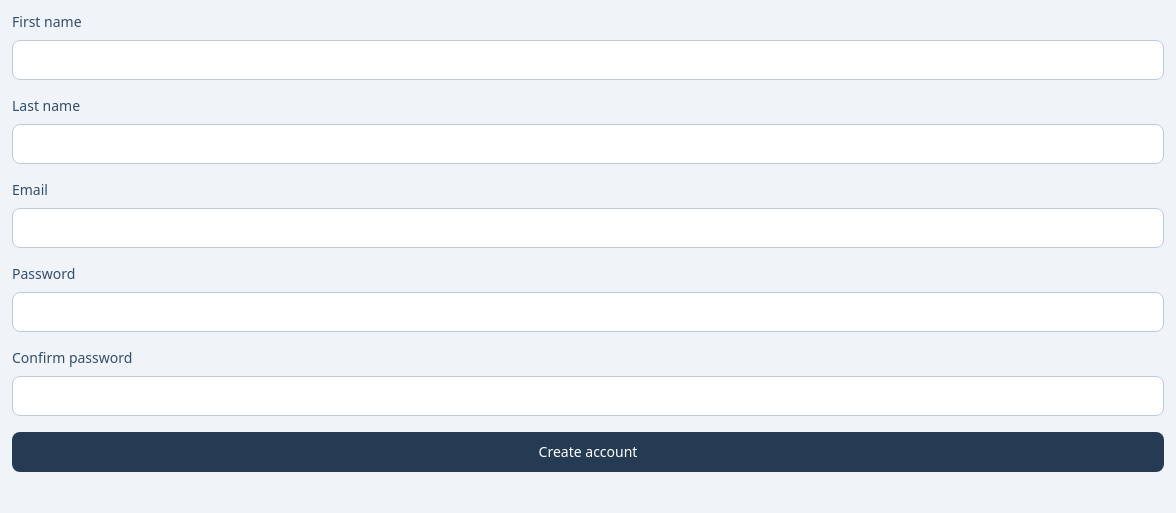
it: RegisterForm › shows field errors when registration fails validation
The width and height of the screenshot is (1176, 513).
Type "Sam" into the field labelled "First name" at (588, 60), box [12, 40, 1164, 80]
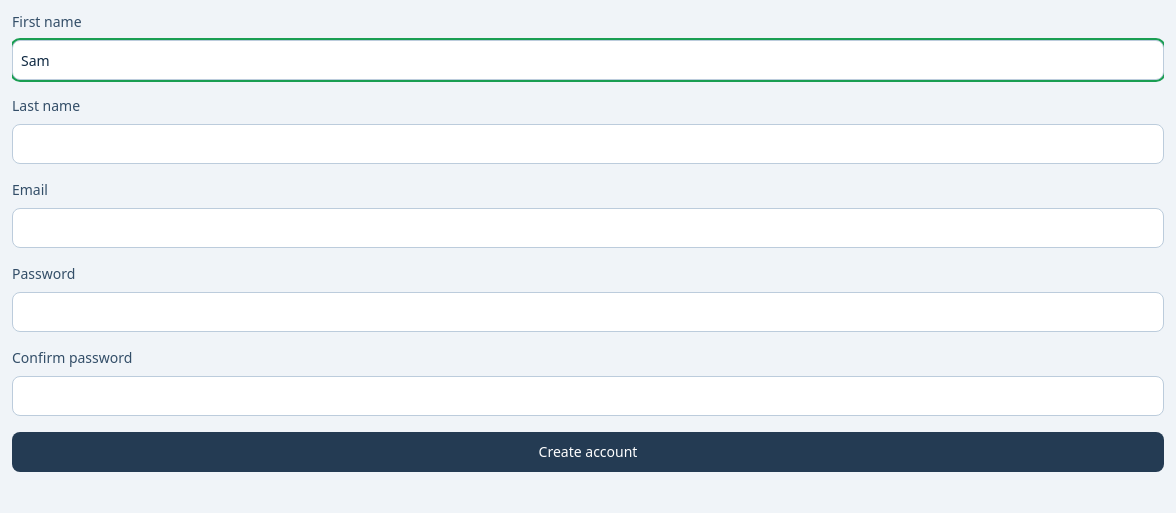
Type "Taylor" into the field labelled "Last name" at (588, 144), box [12, 124, 1164, 164]
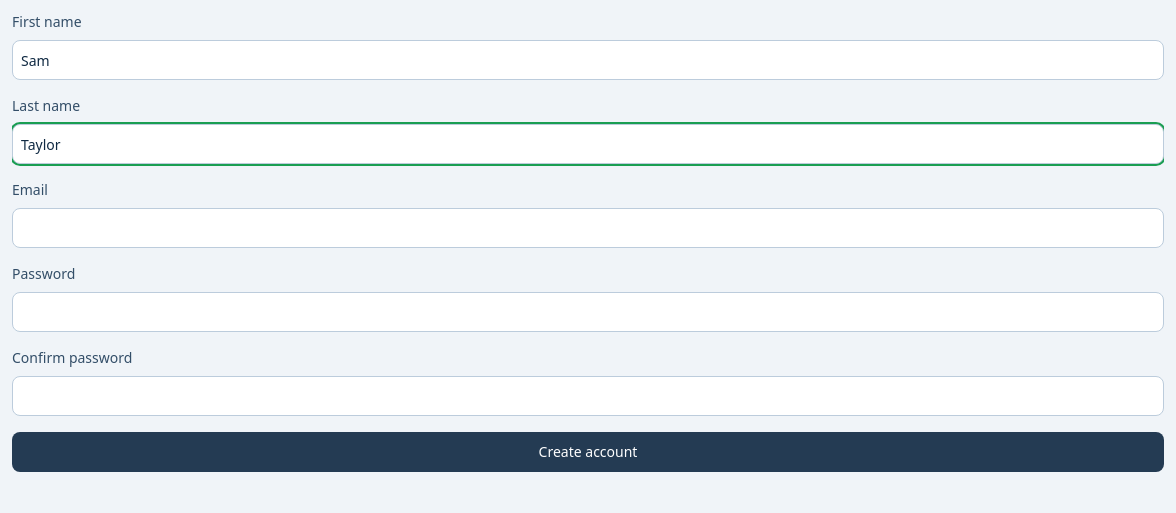
Type "sam.taylor@email.com" into the field labelled "Email" at (588, 228), box [12, 208, 1164, 248]
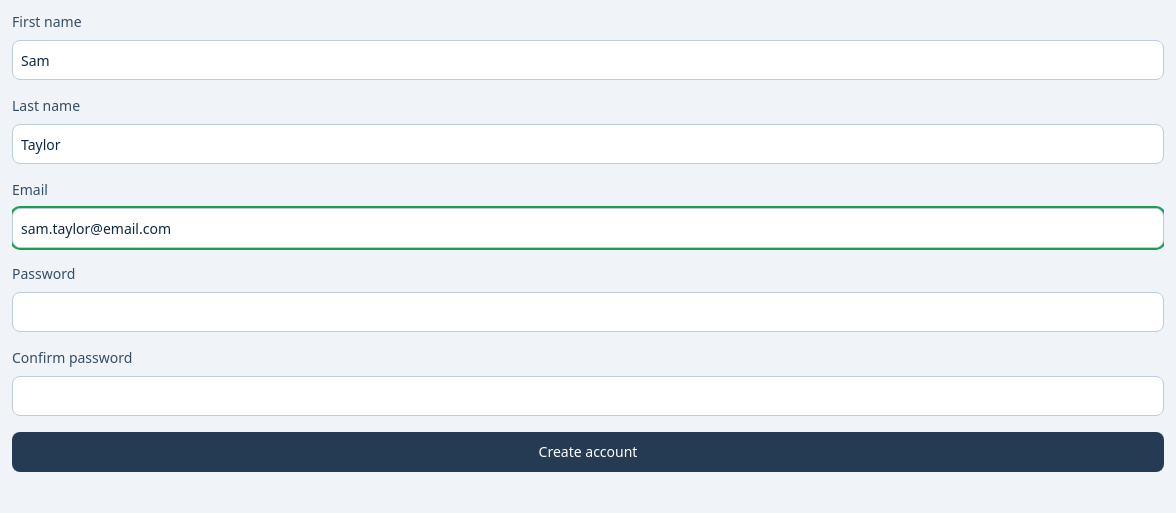
Type "Password1" into the password field labelled "Password" at (588, 312), box [12, 292, 1164, 332]
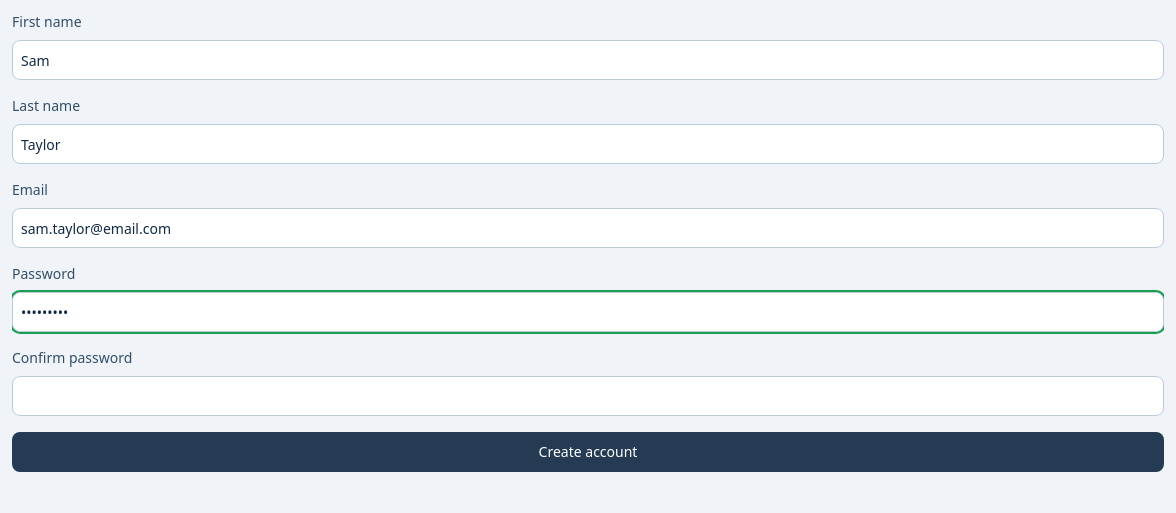
Type "Password1" into the password field labelled "Confirm password" at (588, 396), box [12, 376, 1164, 416]
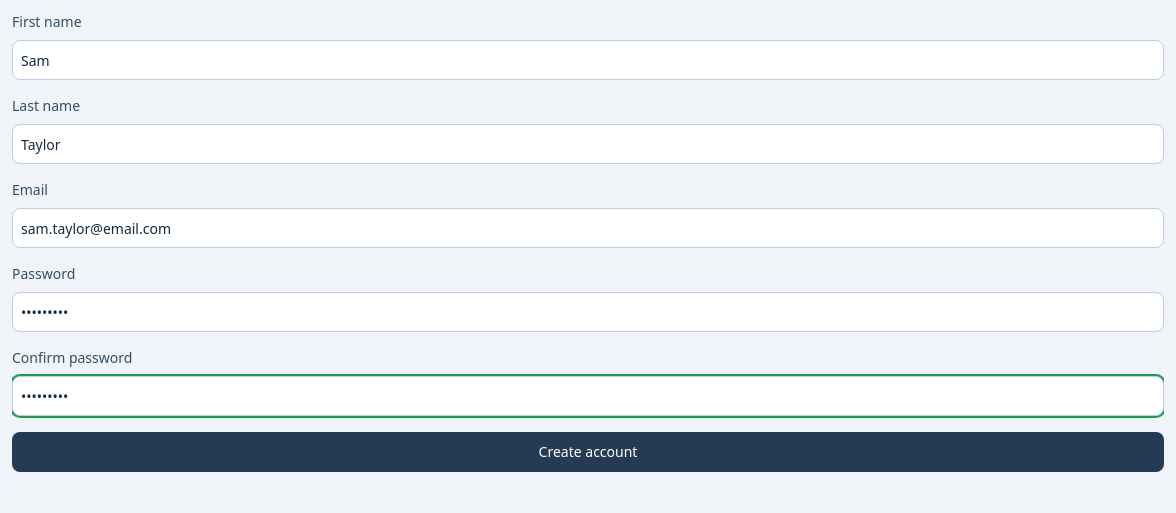
Click the button "Create account" at (588, 452), box [12, 432, 1164, 472]
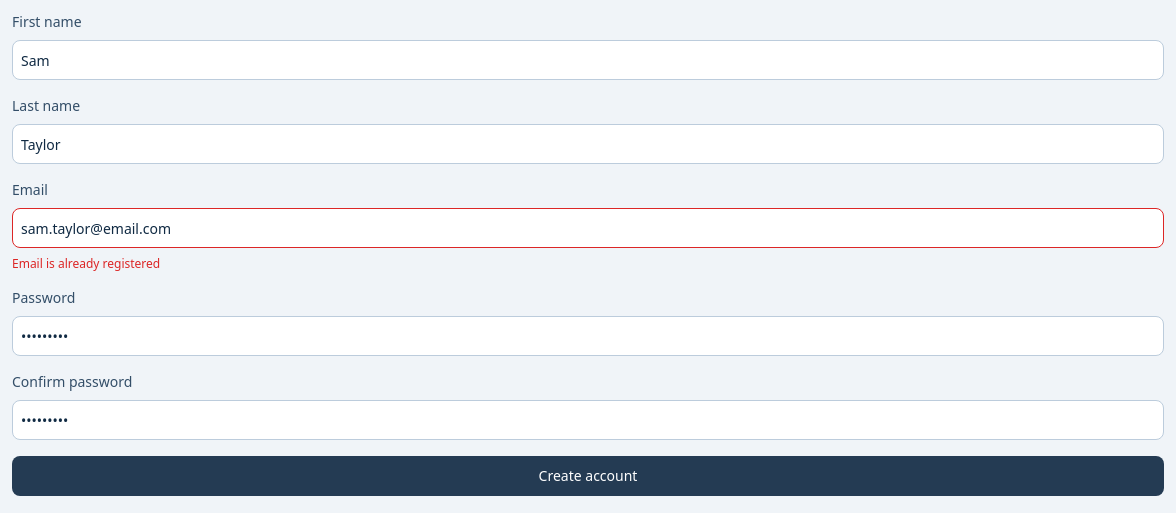
Expected: the text "Email is already registered" is shown, [12, 255, 160, 272]
